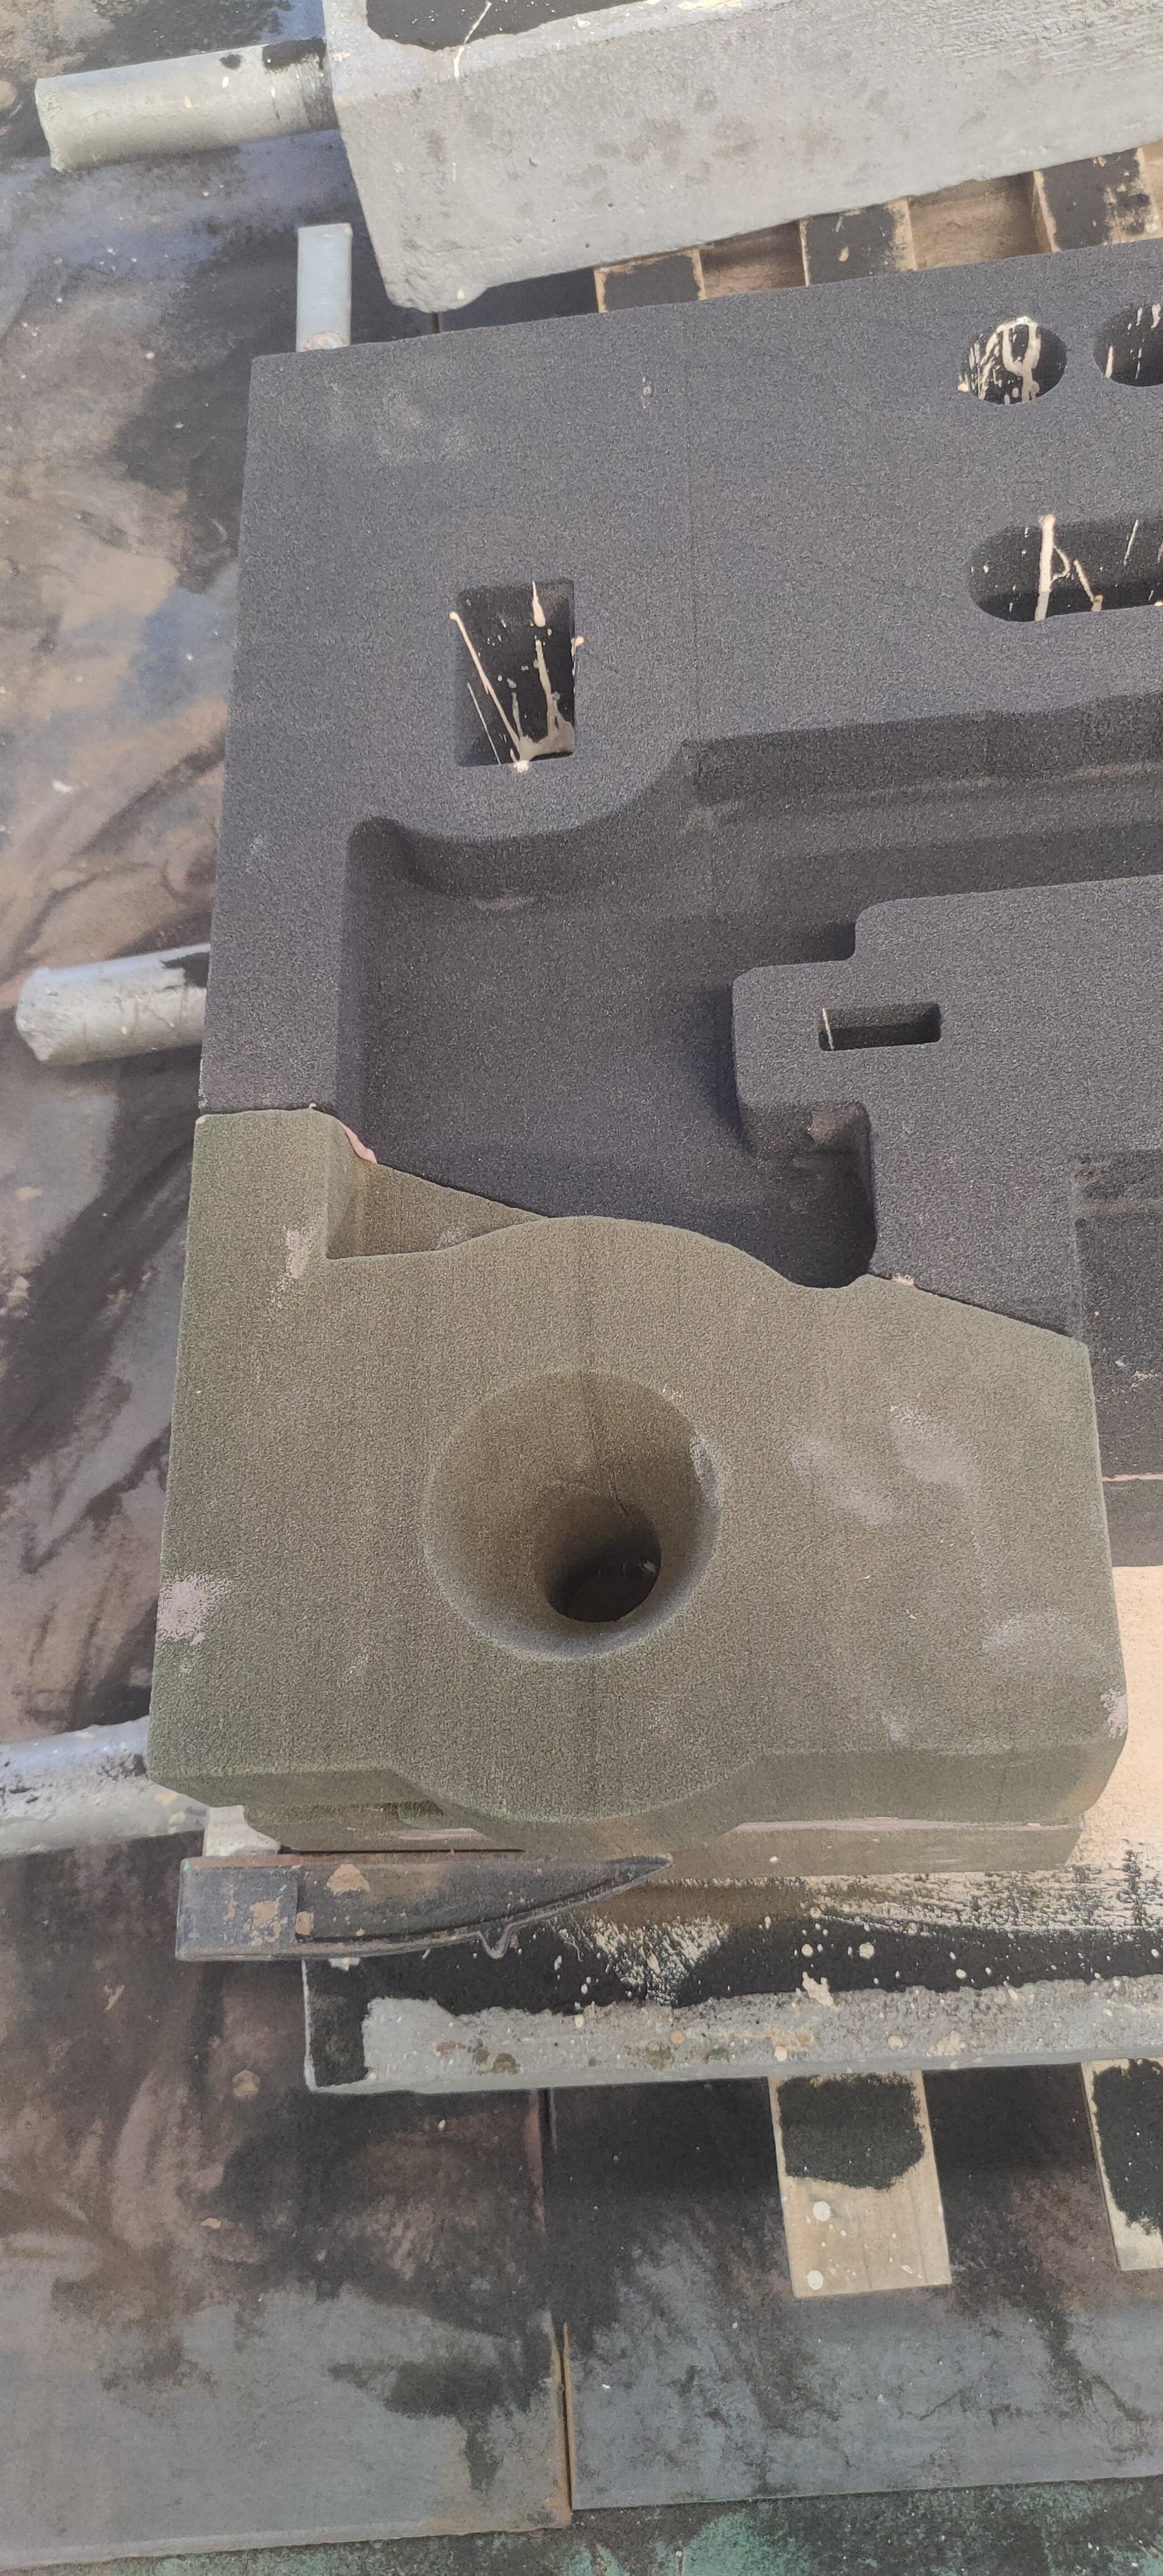pouring hole: (422, 1367, 716, 1651)
